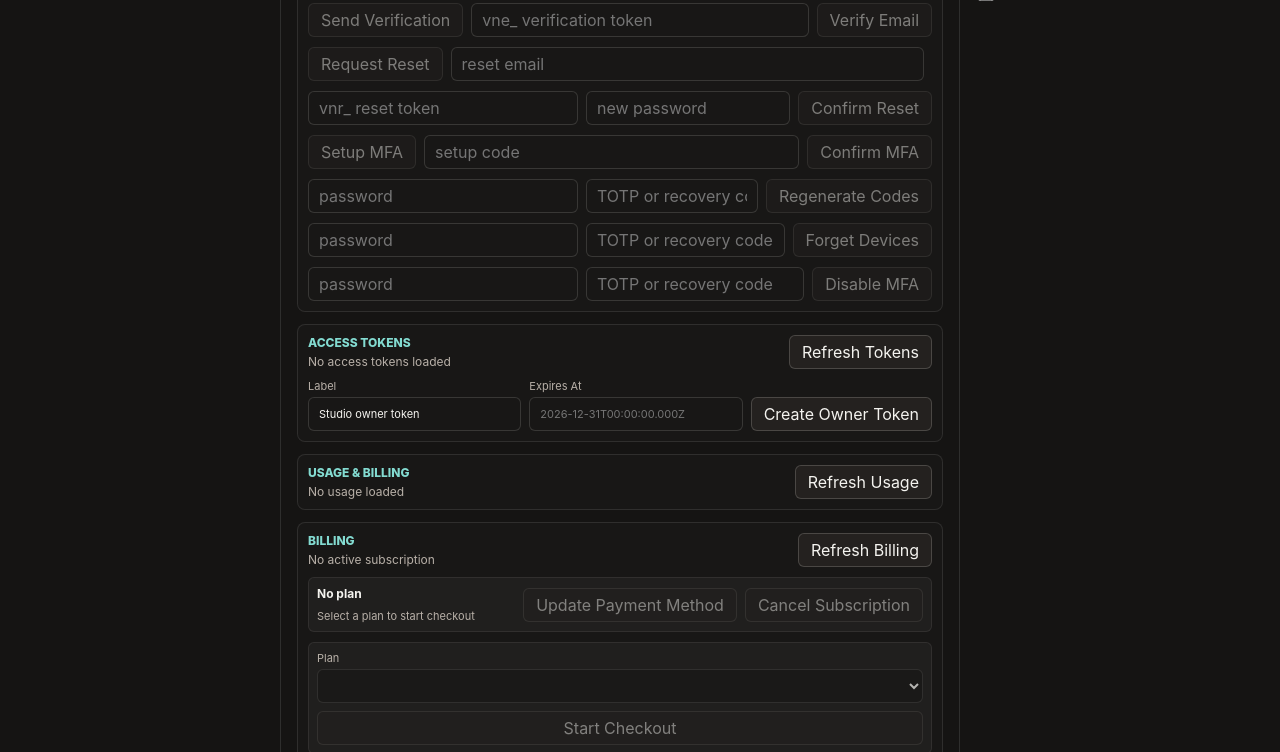
Test case: Studio App › manages owner access tokens through the production API
(page scrolled)
Click the button "Refresh Tokens" at coordinates (860, 352), box 789,335 -> 932,369
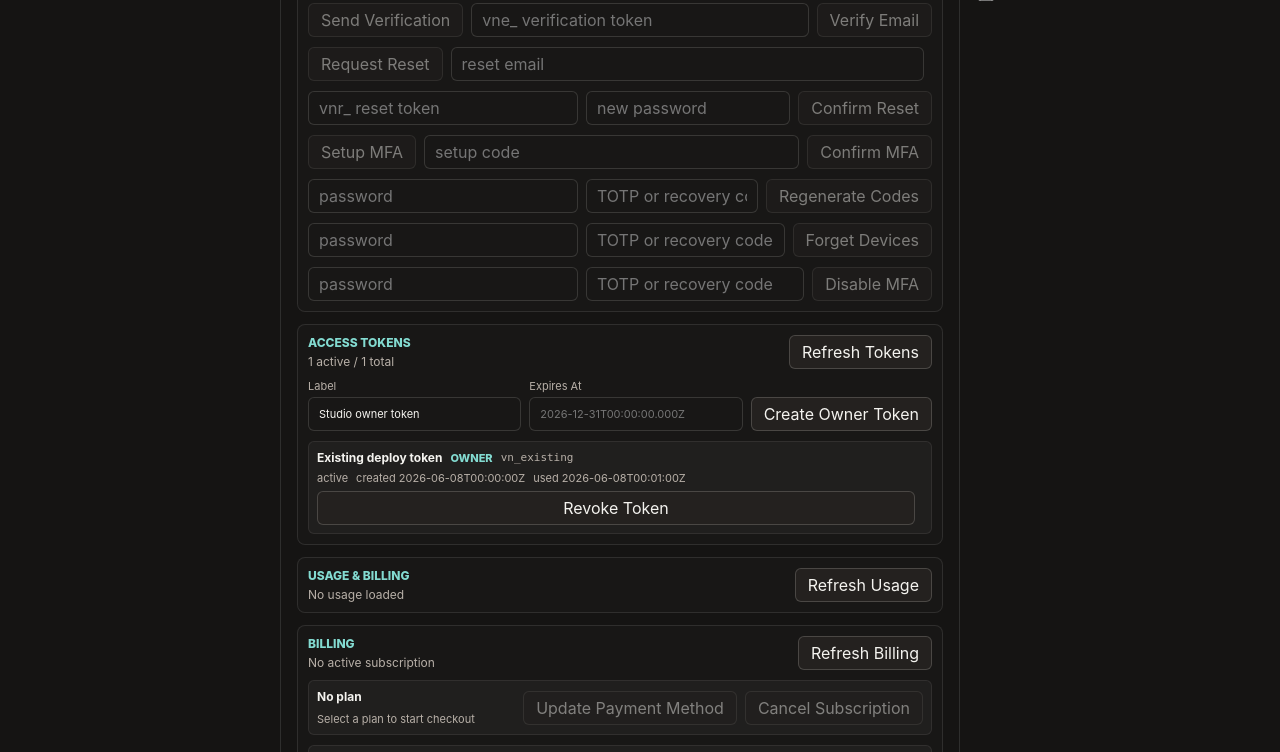
Now the text "1 active / 1 total" is shown, box 308,354 -> 394,369
Now the text "Existing deploy token" is shown, box 317,450 -> 442,465
Replace the text in the field labelled "Label" with "Deploy token" at coordinates (415, 414), box 308,397 -> 521,431
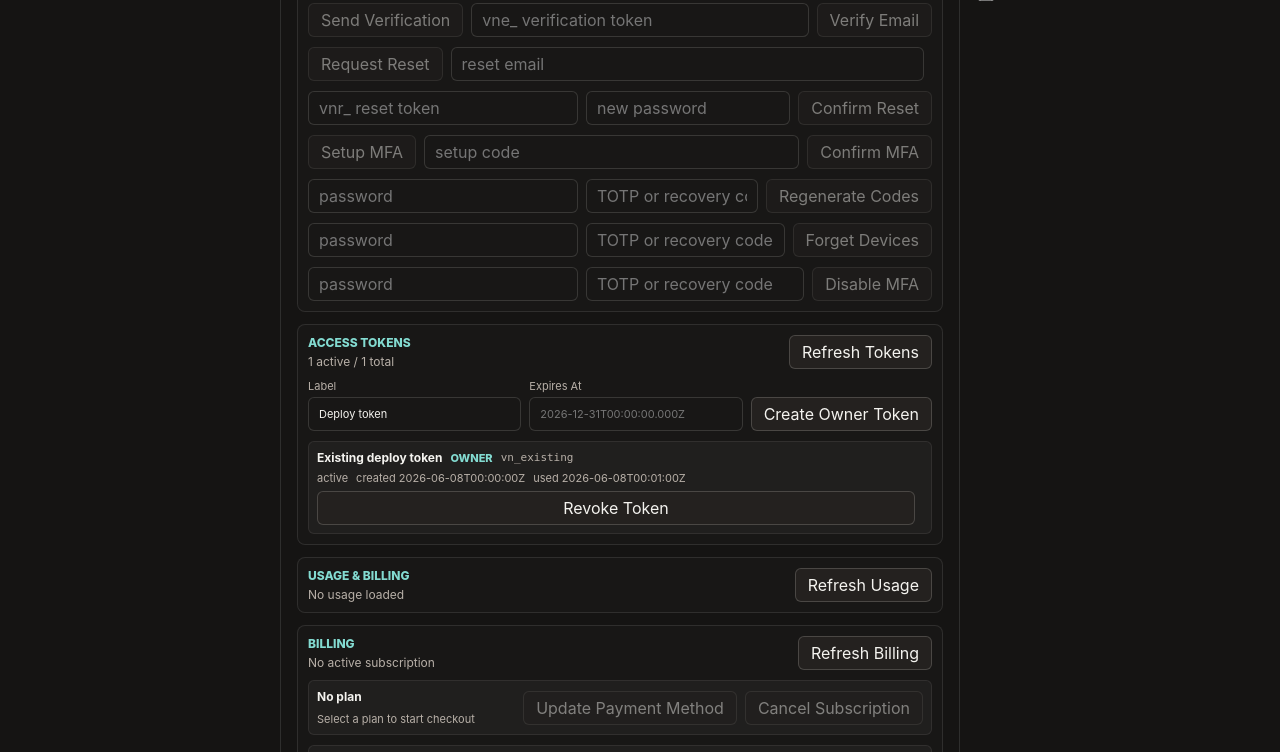
Click the button "Create Owner Token" at coordinates (841, 414), box 751,397 -> 932,431
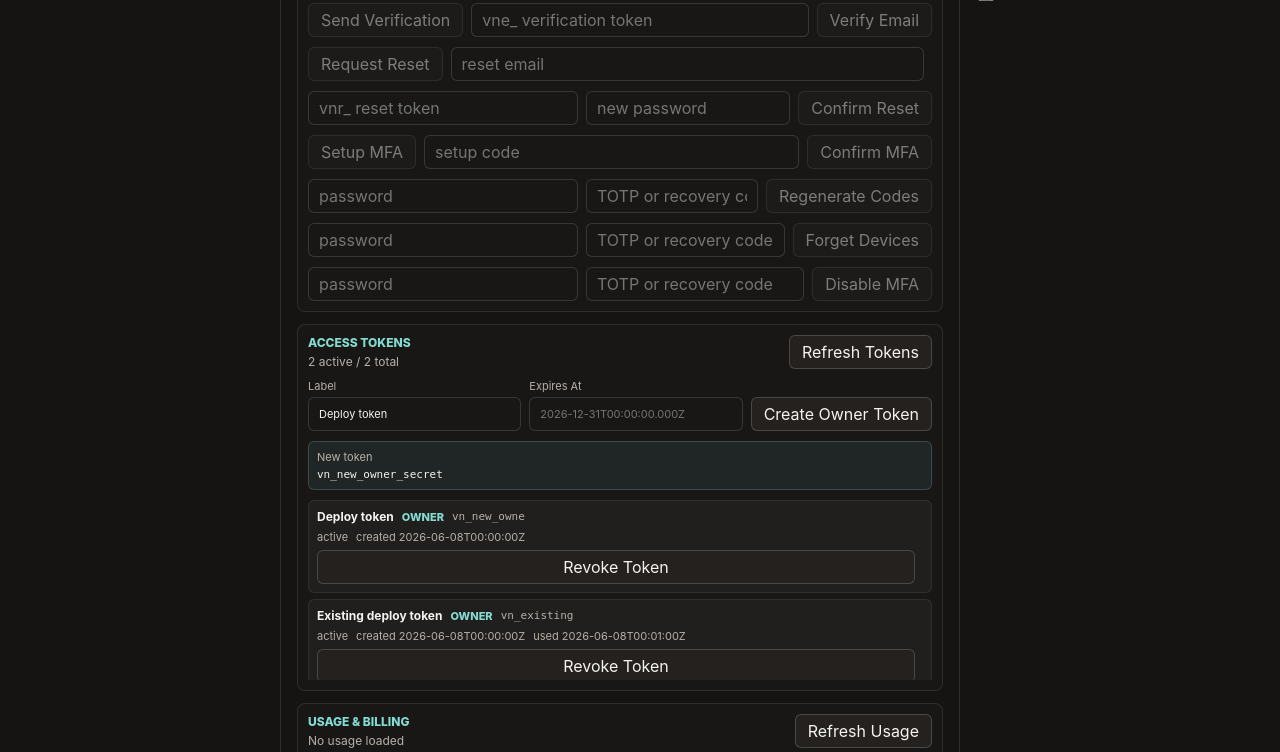
Now the text "vn_new_owner_secret" is shown, box 317,468 -> 443,481
Now the text "Deploy token" is shown, box 317,509 -> 394,524
Click the 1st button "Revoke Token" at coordinates (616, 567), box 317,550 -> 915,584
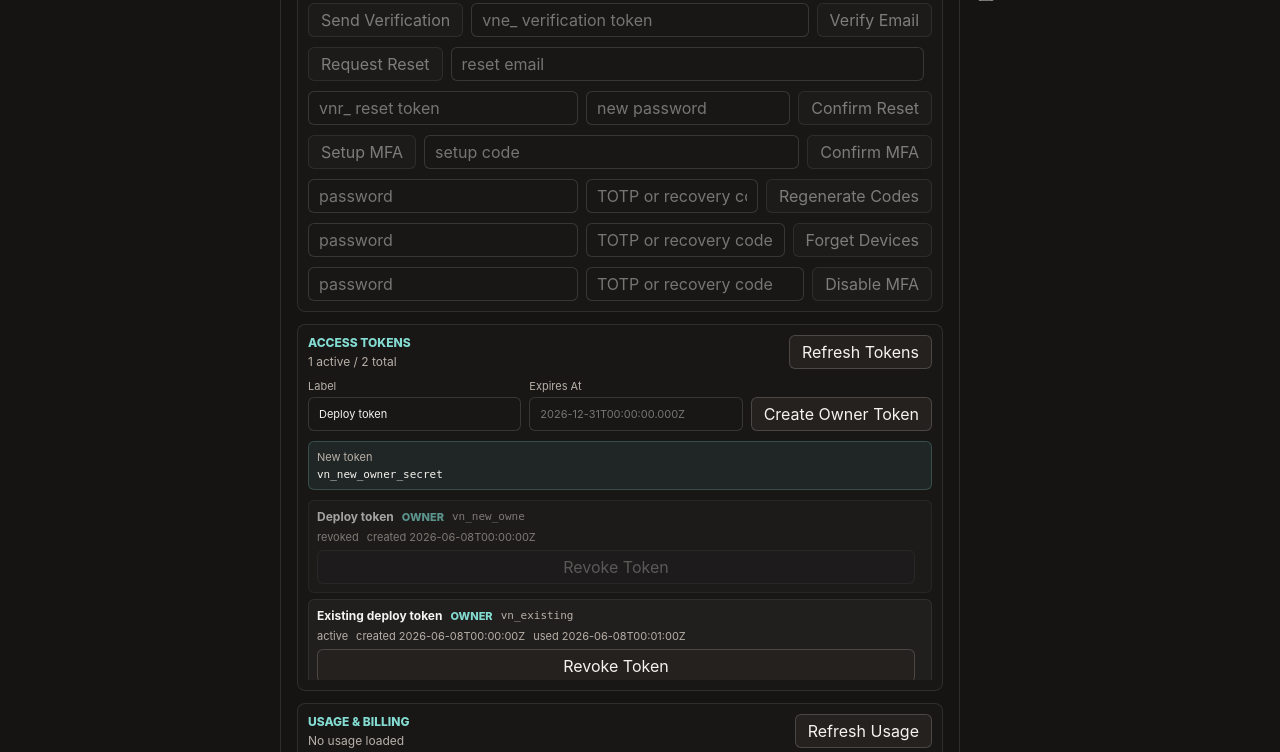
Now the text "revoked" is shown, box 317,530 -> 359,544
